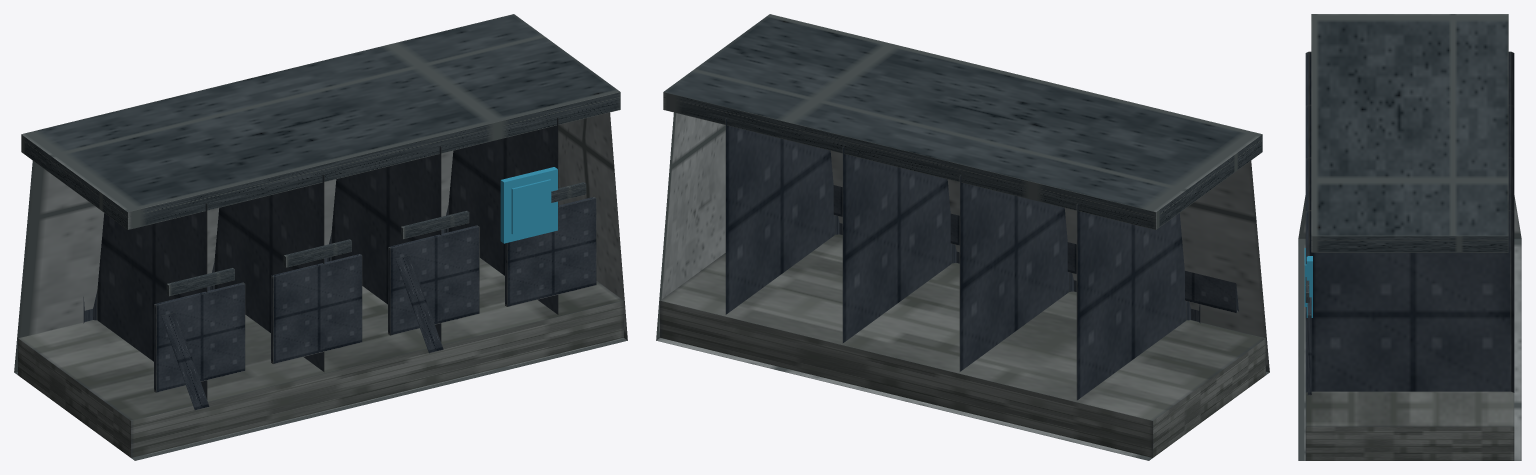
The model's file is edificio-wall-e5-Cs3QCzep.glb.
3 views of the same model, side by side, from view 1: azimuth 30°, elevation 25°; view 2: azimuth 150°, elevation 25°; view 3: azimuth 270°, elevation 25° (orthographic). The views are drawn at different scales.
Parts seen in each view (by area): view 1: wall_body, team_color; view 2: wall_body; view 3: wall_body, team_color.
Boxes of the visible parts, x1=… form: wall_body: x1=14, y1=14, x2=627, y2=460; team_color: x1=500, y1=167, x2=557, y2=243; wall_body: x1=656, y1=14, x2=1269, y2=460; wall_body: x1=1298, y1=14, x2=1521, y2=460; team_color: x1=1304, y1=248, x2=1312, y2=317.
Size of the model in its own units: 32 by 15.1 by 13.6.
2 materials, 1 textured.
